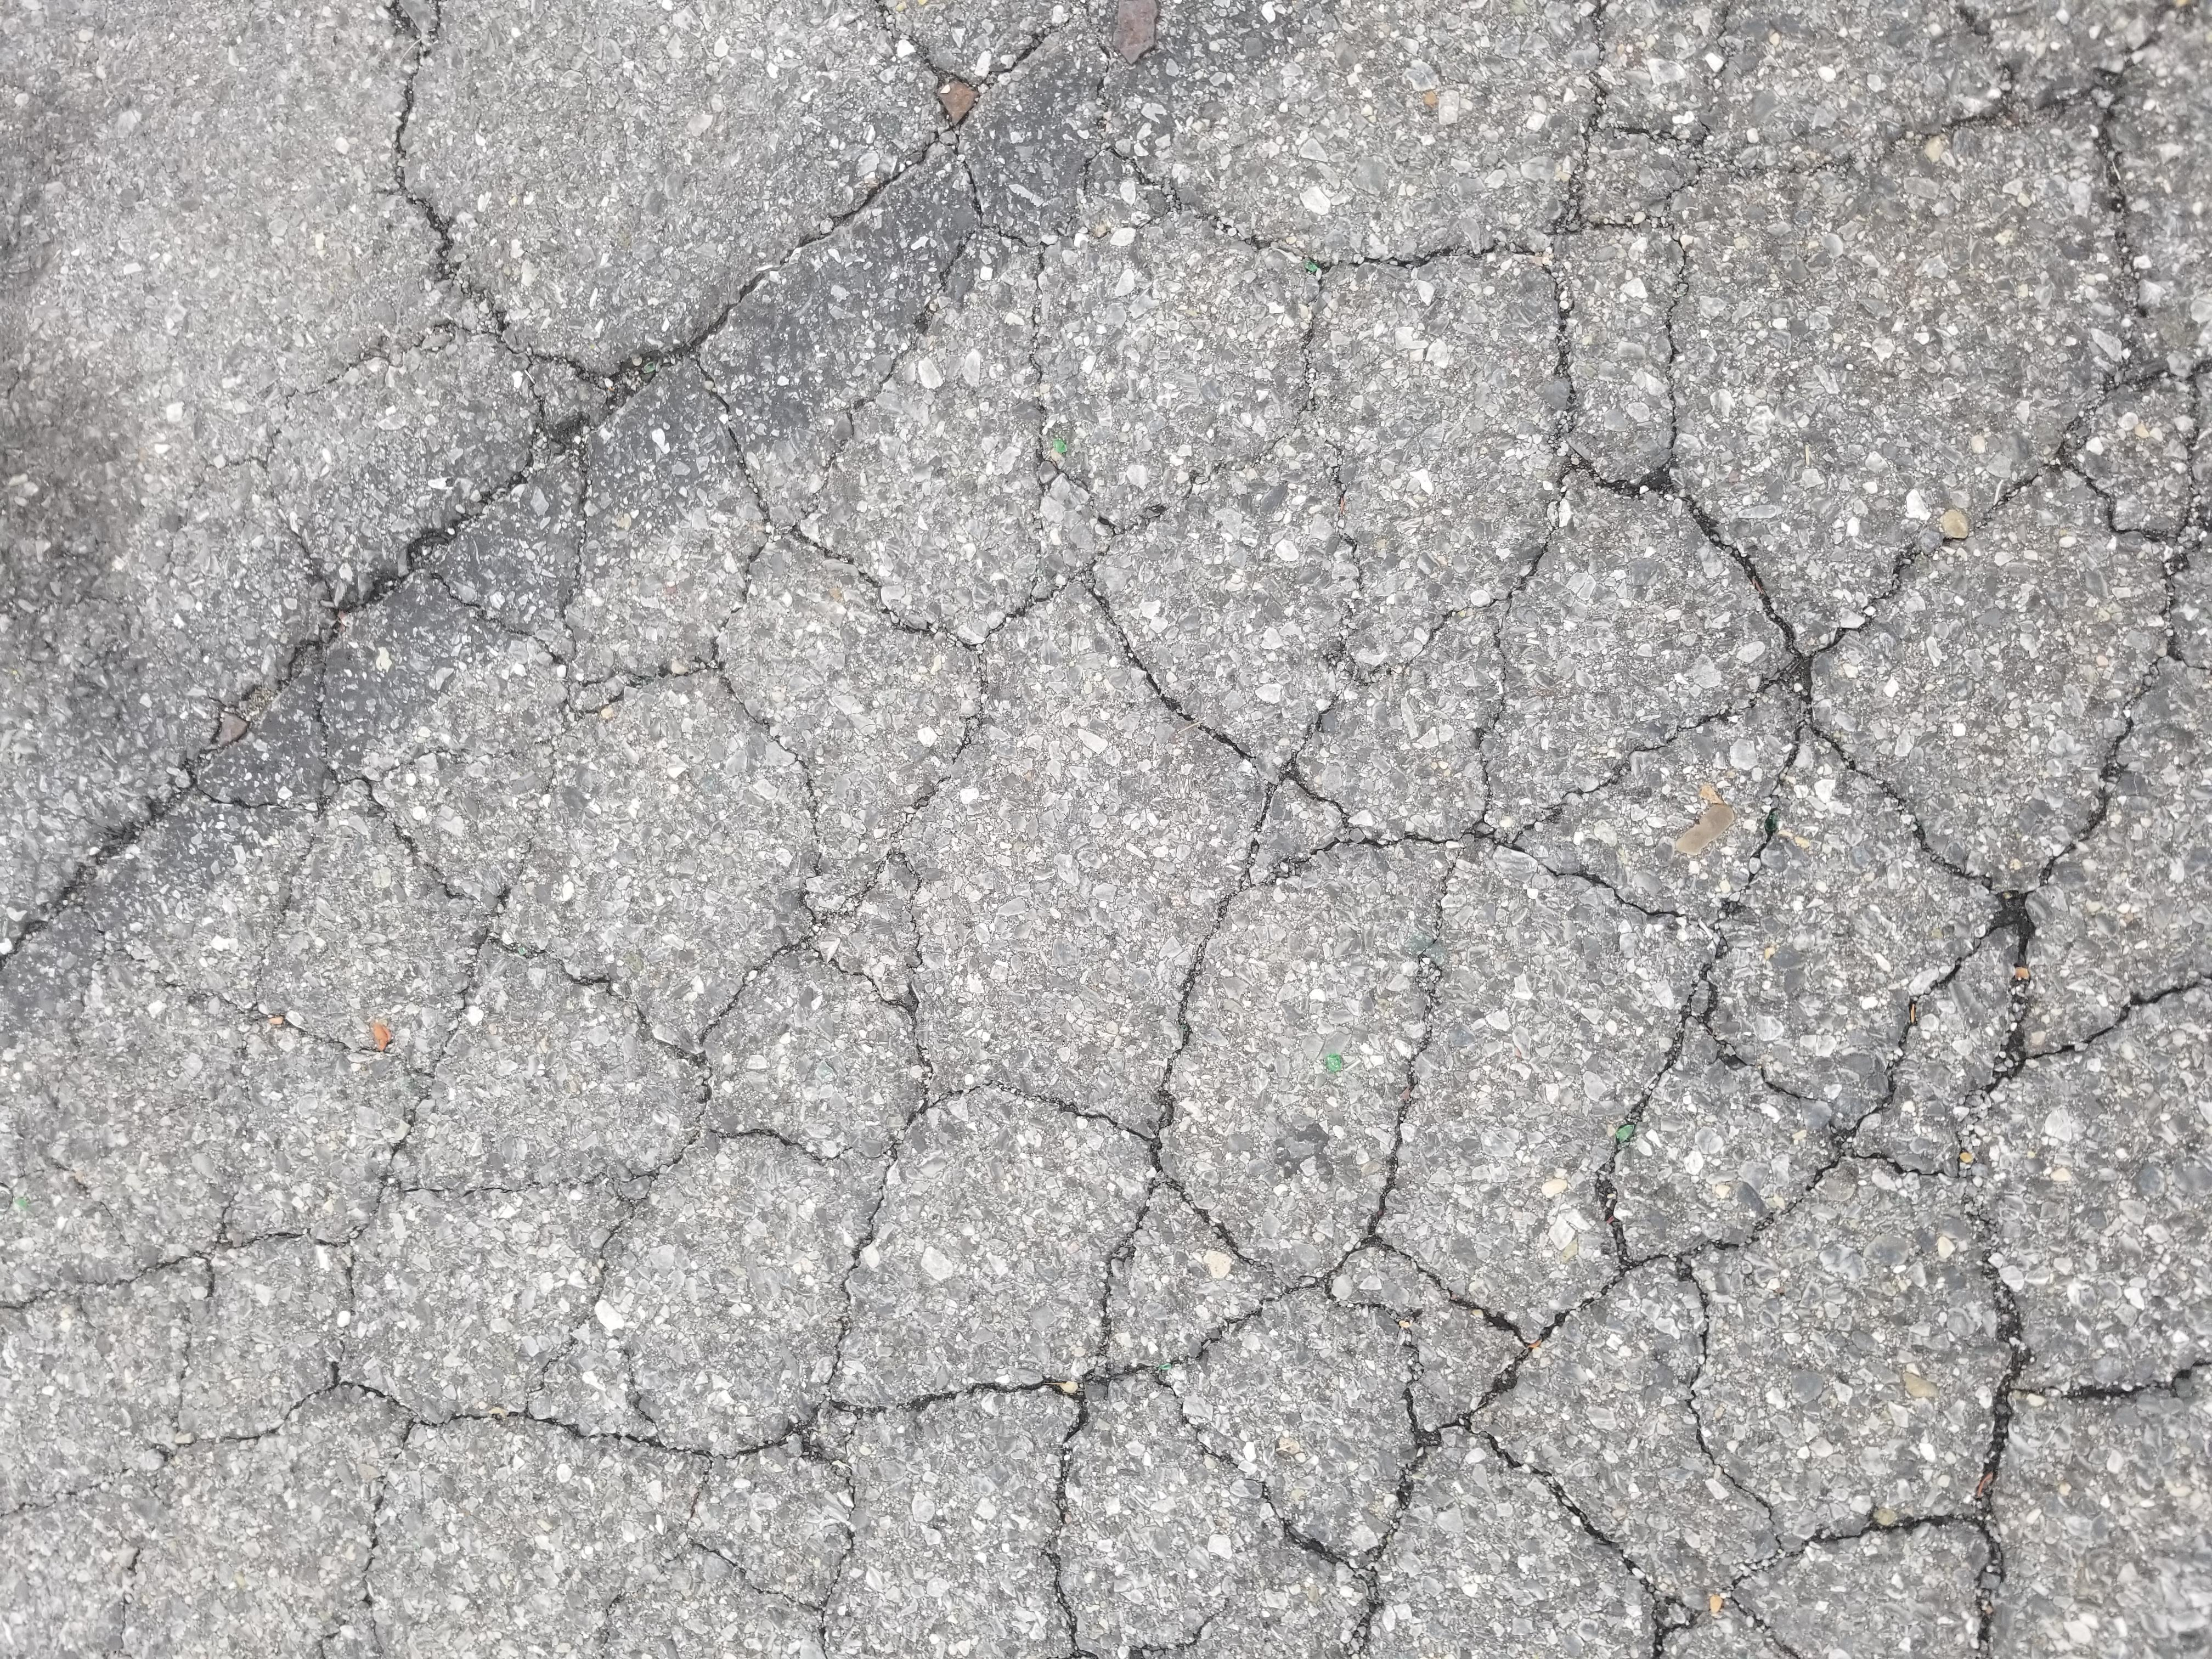alligator-crack: (2, 737, 2212, 1659), (2, 23, 2212, 735)
crack: (909, 2, 2212, 830)
